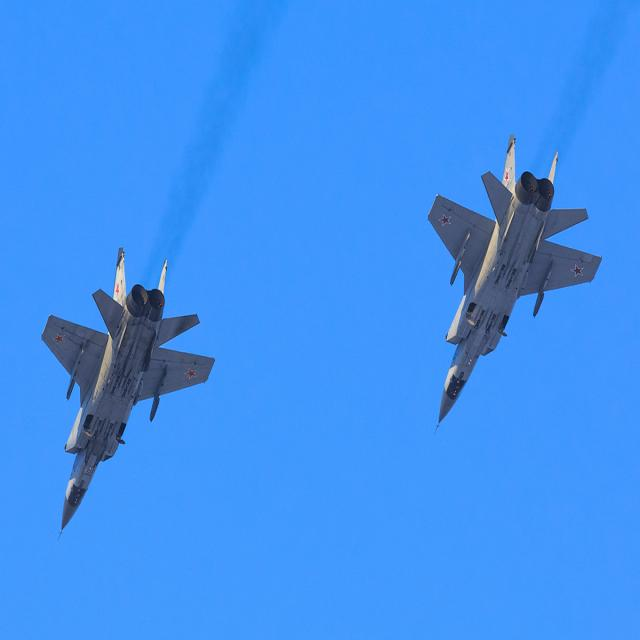MIL_Plane: (427, 133, 602, 434), (41, 247, 216, 542)
